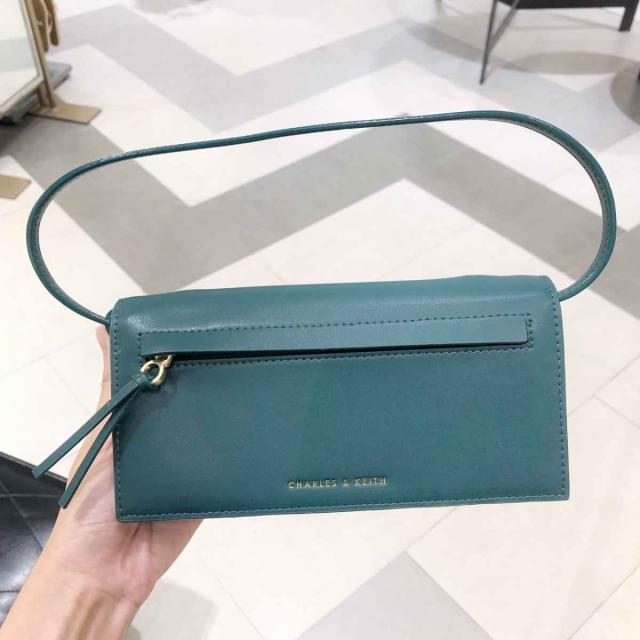Handbag: (103, 268, 583, 527)
